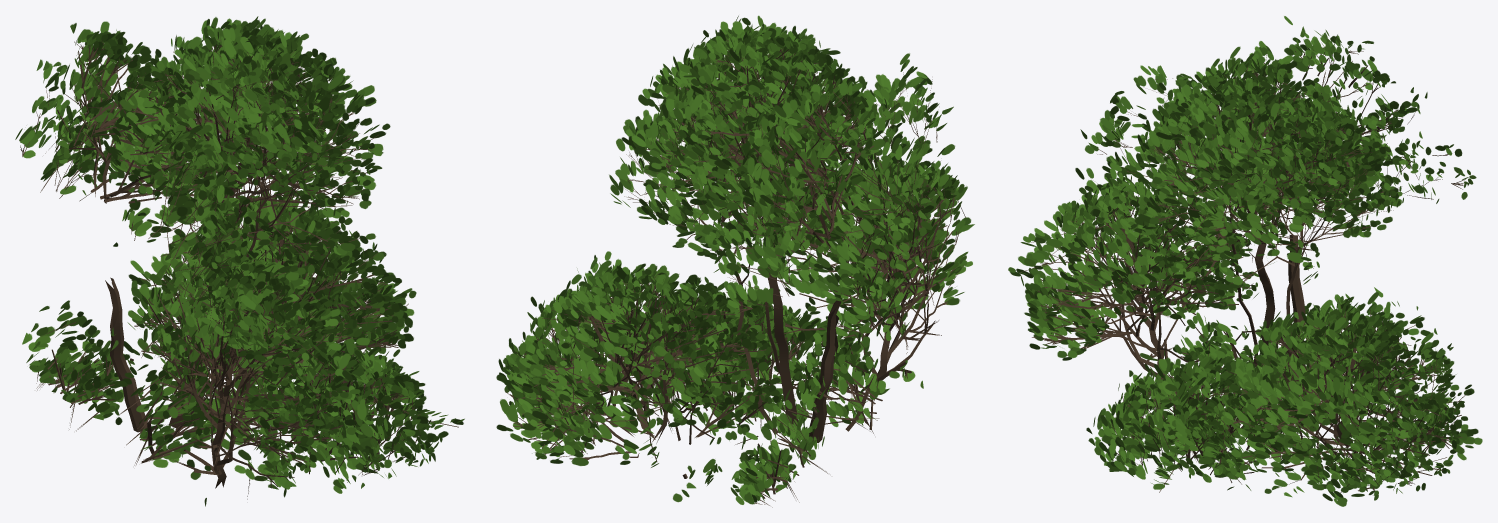
The picture shows the model from 3 angles, left to right: view 1: azimuth 30°, elevation 25°; view 2: azimuth 150°, elevation 25°; view 3: azimuth 270°, elevation 25°; orthographic projection. The views are drawn at different scales.
Visible parts, largest first — view 1: oak 01.001_trunk_Mat.001_0.365; view 2: oak 01.001_trunk_Mat.001_0.365; view 3: oak 01.001_trunk_Mat.001_0.365.
Part boxes in pixels (x1,y1,x2,y2): oak 01.001_trunk_Mat.001_0.365: (15,16,464,506); oak 01.001_trunk_Mat.001_0.365: (496,15,974,507); oak 01.001_trunk_Mat.001_0.365: (1008,16,1482,506).
Bounding box in the file's own units: 4.01 × 4.81 × 5.38.
Materials: 2 (1 with a texture image).
